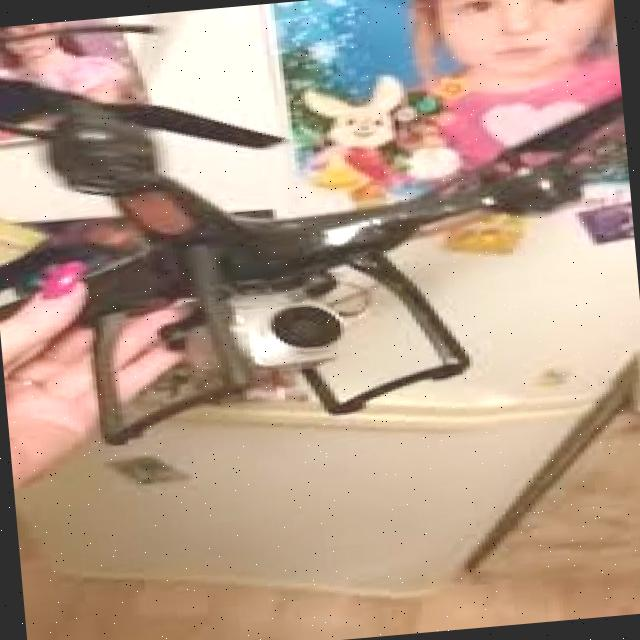drone: (0, 0, 640, 466)
